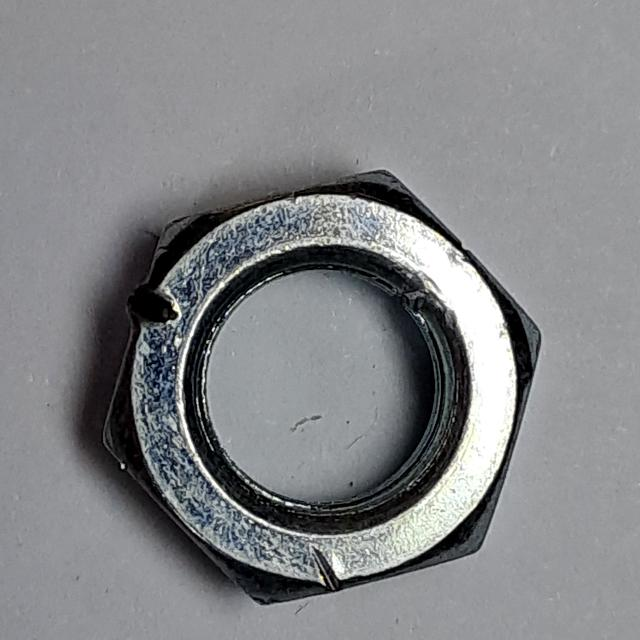Scratches: (85, 147, 562, 628)
